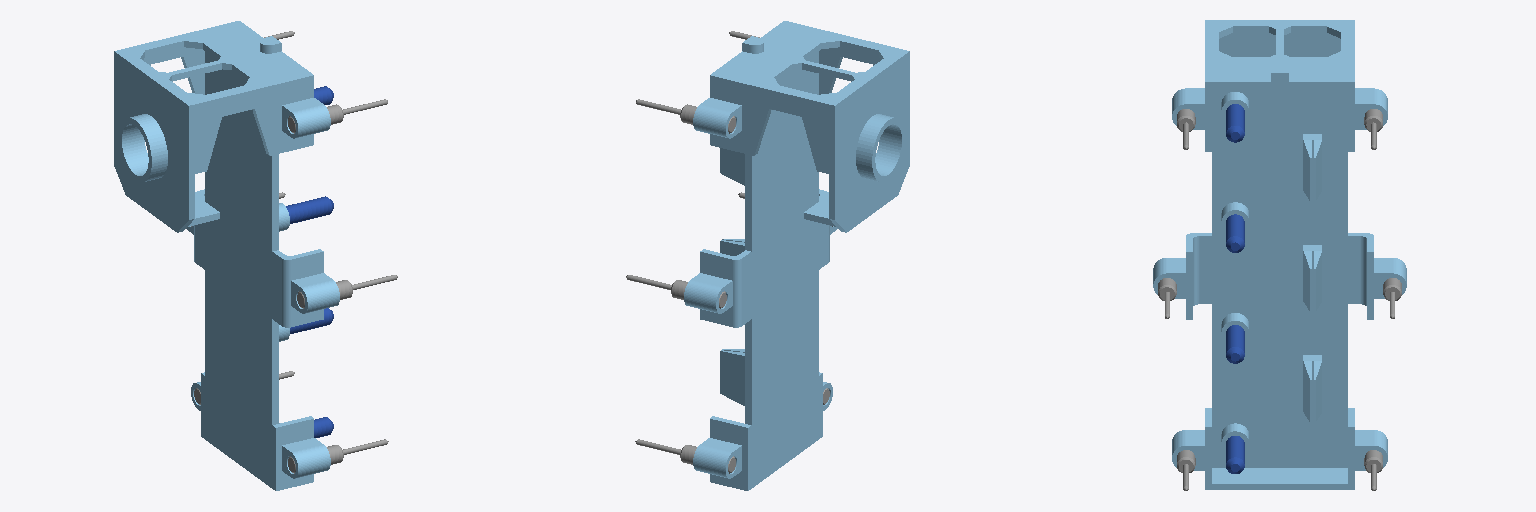
URDF robot description (mock_end_effector):
<!--URDF generated by ONSHAPE BY PTC INC, 1.222-->
<robot name="mock_end_effector">
    <link name="end_effector_base">
        <inertial>
            <mass value="1.53208" />
            <origin xyz="0.118979 0.00187954 -0.118072" rpy="0 -0 0" />
            <inertia ixx="0.0418325" ixy="-0.000116094" ixz="0.00444694" iyy="0.0397799" iyz="0.000120736" izz="0.00878388" />
        </inertial>
        <visual>
            <origin xyz="0.02 0 -1.74512e-18" rpy="0 -0 0" />
            <geometry>
                <mesh filename="package://mock_end_effector/meshes/end_effector_base.stl" scale="1 1 1" />
            </geometry>
            <material name="0.615686_0.811765_0.929412_0.000000_0.000000">
                <color rgba="0.615686 0.811765 0.929412 1" />
            </material>
        </visual>
    </link>
    <link name="end_effector_nozzle">
        <inertial>
            <mass value="0.0257511" />
            <origin xyz="-3.71835e-19 -1.24009e-35 0.0389773" rpy="0 -0 0" />
            <inertia ixx="1.37015e-05" ixy="0" ixz="0" iyy="1.37015e-05" iyz="0" izz="1.27138e-06" />
        </inertial>
        <visual>
            <origin xyz="0 0 0" rpy="0 -0 0" />
            <geometry>
                <mesh filename="package://mock_end_effector/meshes/end_effector_nozzle.stl" scale="1 1 1" />
            </geometry>
            <material name="0.231373_0.380392_0.705882_0.000000_0.000000">
                <color rgba="0.231373 0.380392 0.705882 1" />
            </material>
        </visual>
    </link>
    <link name="end_effector_nozzle_1">
        <inertial>
            <mass value="0.0257511" />
            <origin xyz="9.7626e-19 8.42225e-35 0.0389773" rpy="0 -0 0" />
            <inertia ixx="1.37015e-05" ixy="0" ixz="0" iyy="1.37015e-05" iyz="0" izz="1.27138e-06" />
        </inertial>
        <visual>
            <origin xyz="1.34809e-18 9.66234e-35 -1.73472e-18" rpy="0 -0 0" />
            <geometry>
                <mesh filename="package://mock_end_effector/meshes/end_effector_nozzle.stl" scale="1 1 1" />
            </geometry>
            <material name="0.231373_0.380392_0.705882_0.000000_0.000000">
                <color rgba="0.231373 0.380392 0.705882 1" />
            </material>
        </visual>
    </link>
    <link name="end_effector_nozzle_2">
        <inertial>
            <mass value="0.0257511" />
            <origin xyz="-3.71835e-19 -1.24009e-35 0.0389773" rpy="0 -0 0" />
            <inertia ixx="1.37015e-05" ixy="0" ixz="0" iyy="1.37015e-05" iyz="0" izz="1.27138e-06" />
        </inertial>
        <visual>
            <origin xyz="0 0 0" rpy="0 -0 0" />
            <geometry>
                <mesh filename="package://mock_end_effector/meshes/end_effector_nozzle.stl" scale="1 1 1" />
            </geometry>
            <material name="0.231373_0.380392_0.705882_0.000000_0.000000">
                <color rgba="0.231373 0.380392 0.705882 1" />
            </material>
        </visual>
    </link>
    <link name="end_effector_nozzle_3">
        <inertial>
            <mass value="0.0257511" />
            <origin xyz="-3.71835e-19 -1.24009e-35 0.0389773" rpy="0 -0 0" />
            <inertia ixx="1.37015e-05" ixy="0" ixz="0" iyy="1.37015e-05" iyz="0" izz="1.27138e-06" />
        </inertial>
        <visual>
            <origin xyz="0 0 0" rpy="0 -0 0" />
            <geometry>
                <mesh filename="package://mock_end_effector/meshes/end_effector_nozzle.stl" scale="1 1 1" />
            </geometry>
            <material name="0.231373_0.380392_0.705882_0.000000_0.000000">
                <color rgba="0.231373 0.380392 0.705882 1" />
            </material>
        </visual>
    </link>
    <link name="end_effector_sensor">
        <inertial>
            <mass value="0.0213081" />
            <origin xyz="-5.61313e-20 -1.15097e-35 0.0347772" rpy="0 -0 0" />
            <inertia ixx="1.22295e-05" ixy="0" ixz="0" iyy="1.22295e-05" iyz="0" izz="9.77537e-07" />
        </inertial>
        <visual>
            <origin xyz="0 0 0" rpy="0 -0 0" />
            <geometry>
                <mesh filename="package://mock_end_effector/meshes/end_effector_sensor.stl" scale="1 1 1" />
            </geometry>
            <material name="0.647059_0.647059_0.647059_0.000000_0.000000">
                <color rgba="0.647059 0.647059 0.647059 1" />
            </material>
        </visual>
    </link>
    <link name="end_effector_sensor_1">
        <inertial>
            <mass value="0.0213081" />
            <origin xyz="-5.61313e-20 -1.15097e-35 0.0347772" rpy="0 -0 0" />
            <inertia ixx="1.22295e-05" ixy="0" ixz="0" iyy="1.22295e-05" iyz="0" izz="9.77537e-07" />
        </inertial>
        <visual>
            <origin xyz="0 0 0" rpy="0 -0 0" />
            <geometry>
                <mesh filename="package://mock_end_effector/meshes/end_effector_sensor.stl" scale="1 1 1" />
            </geometry>
            <material name="0.647059_0.647059_0.647059_0.000000_0.000000">
                <color rgba="0.647059 0.647059 0.647059 1" />
            </material>
        </visual>
    </link>
    <link name="end_effector_sensor_2">
        <inertial>
            <mass value="0.0213081" />
            <origin xyz="-1.10933e-18 6.5789e-35 0.0347772" rpy="0 -0 0" />
            <inertia ixx="1.22295e-05" ixy="0" ixz="0" iyy="1.22295e-05" iyz="0" izz="9.77537e-07" />
        </inertial>
        <visual>
            <origin xyz="-1.0532e-18 7.72987e-35 0" rpy="0 -0 0" />
            <geometry>
                <mesh filename="package://mock_end_effector/meshes/end_effector_sensor.stl" scale="1 1 1" />
            </geometry>
            <material name="0.647059_0.647059_0.647059_0.000000_0.000000">
                <color rgba="0.647059 0.647059 0.647059 1" />
            </material>
        </visual>
    </link>
    <link name="end_effector_sensor_3">
        <inertial>
            <mass value="0.0213081" />
            <origin xyz="-5.61313e-20 -1.15097e-35 0.0347772" rpy="0 -0 0" />
            <inertia ixx="1.22295e-05" ixy="0" ixz="0" iyy="1.22295e-05" iyz="0" izz="9.77537e-07" />
        </inertial>
        <visual>
            <origin xyz="0 0 0" rpy="0 -0 0" />
            <geometry>
                <mesh filename="package://mock_end_effector/meshes/end_effector_sensor.stl" scale="1 1 1" />
            </geometry>
            <material name="0.647059_0.647059_0.647059_0.000000_0.000000">
                <color rgba="0.647059 0.647059 0.647059 1" />
            </material>
        </visual>
    </link>
    <link name="end_effector_sensor_4">
        <inertial>
            <mass value="0.0213081" />
            <origin xyz="-5.61313e-20 -1.15097e-35 0.0347772" rpy="0 -0 0" />
            <inertia ixx="1.22295e-05" ixy="0" ixz="0" iyy="1.22295e-05" iyz="0" izz="9.77537e-07" />
        </inertial>
        <visual>
            <origin xyz="0 0 0" rpy="0 -0 0" />
            <geometry>
                <mesh filename="package://mock_end_effector/meshes/end_effector_sensor.stl" scale="1 1 1" />
            </geometry>
            <material name="0.647059_0.647059_0.647059_0.000000_0.000000">
                <color rgba="0.647059 0.647059 0.647059 1" />
            </material>
        </visual>
    </link>
    <link name="end_effector_sensor_5">
        <inertial>
            <mass value="0.0213081" />
            <origin xyz="-5.61313e-20 -1.15097e-35 0.0347772" rpy="0 -0 0" />
            <inertia ixx="1.22295e-05" ixy="0" ixz="0" iyy="1.22295e-05" iyz="0" izz="9.77537e-07" />
        </inertial>
        <visual>
            <origin xyz="0 0 0" rpy="0 -0 0" />
            <geometry>
                <mesh filename="package://mock_end_effector/meshes/end_effector_sensor.stl" scale="1 1 1" />
            </geometry>
            <material name="0.647059_0.647059_0.647059_0.000000_0.000000">
                <color rgba="0.647059 0.647059 0.647059 1" />
            </material>
        </visual>
    </link>
    <link name="root" />
    <joint name="eef_nozzle_j1" type="fixed">
        <origin xyz="0.135 -0.0475 0.035" rpy="0 1.5708 -0" />
        <axis xyz="-0 -0 -1" />
        <parent link="end_effector_base" />
        <child link="end_effector_nozzle_1" />
    </joint>
    <joint name="eef_nozzle_j2" type="fixed">
        <origin xyz="0.135 -0.0475 -0.095" rpy="0 1.5708 -0" />
        <axis xyz="-0 -0 -1" />
        <parent link="end_effector_base" />
        <child link="end_effector_nozzle_3" />
    </joint>
    <joint name="eef_nozzle_j3" type="fixed">
        <origin xyz="0.135 -0.0475 -0.225" rpy="0 1.5708 -0" />
        <axis xyz="-0 -0 -1" />
        <parent link="end_effector_base" />
        <child link="end_effector_nozzle" />
    </joint>
    <joint name="eef_nozzle_j4" type="fixed">
        <origin xyz="0.135 -0.0475 -0.355" rpy="0 1.5708 -0" />
        <axis xyz="-0 -0 -1" />
        <parent link="end_effector_base" />
        <child link="end_effector_nozzle_2" />
    </joint>
    <joint name="eef_origin_joint" type="fixed">
        <origin xyz="1.73472e-17 0 1.74512e-18" rpy="0 -0 0" />
        <axis xyz="0 0 1" />
        <parent link="root" />
        <child link="end_effector_base" />
    </joint>
    <joint name="eef_sensor_j1" type="fixed">
        <origin xyz="0.135 -0.1 0.03875" rpy="0 1.5708 -0" />
        <axis xyz="-0 -0 1" />
        <parent link="end_effector_base" />
        <child link="end_effector_sensor_4" />
    </joint>
    <joint name="eef_sensor_j2" type="fixed">
        <origin xyz="0.135 0.1 0.03875" rpy="0 1.5708 -0" />
        <axis xyz="-0 -0 1" />
        <parent link="end_effector_base" />
        <child link="end_effector_sensor" />
    </joint>
    <joint name="eef_sensor_j3" type="fixed">
        <origin xyz="0.135 -0.12 -0.16" rpy="0 1.5708 -0" />
        <axis xyz="-0 -0 1" />
        <parent link="end_effector_base" />
        <child link="end_effector_sensor_1" />
    </joint>
    <joint name="eef_sensor_j4" type="fixed">
        <origin xyz="0.135 0.12 -0.16" rpy="0 1.5708 -0" />
        <axis xyz="-0 -0 1" />
        <parent link="end_effector_base" />
        <child link="end_effector_sensor_3" />
    </joint>
    <joint name="eef_sensor_j5" type="fixed">
        <origin xyz="0.135 -0.1 -0.3625" rpy="0 1.5708 -0" />
        <axis xyz="-0 -0 1" />
        <parent link="end_effector_base" />
        <child link="end_effector_sensor_5" />
    </joint>
    <joint name="eef_sensor_j6" type="fixed">
        <origin xyz="0.135 0.1 -0.3625" rpy="0 1.5708 -0" />
        <axis xyz="-0 -0 1" />
        <parent link="end_effector_base" />
        <child link="end_effector_sensor_2" />
    </joint>
</robot>

--- What the picture shows (computed from the rendered views, not written in the file) ---
Views: 3 orthographic renders of the robot side by side, from view 1: azimuth 30°, elevation 25°; view 2: azimuth 150°, elevation 25°; view 3: azimuth 270°, elevation 25°.
Model mock_end_effector with 12 links and 11 joints (11 fixed), rooted at root, posed every joint at zero.
Visible links, largest first — view 1: end_effector_base, end_effector_nozzle_3, end_effector_sensor_1, end_effector_sensor_4, end_effector_sensor_5; view 2: end_effector_base, end_effector_sensor_3, end_effector_sensor, end_effector_sensor_2; view 3: end_effector_base, end_effector_nozzle, end_effector_nozzle_1, end_effector_nozzle_3, end_effector_nozzle_2.
Boxes of the visible links, <box> form: end_effector_base: <box>114,21,339,490</box>; end_effector_nozzle_3: <box>286,196,333,223</box>; end_effector_sensor_1: <box>297,275,397,308</box>; end_effector_sensor_4: <box>288,99,387,133</box>; end_effector_sensor_5: <box>288,439,388,473</box>; end_effector_base: <box>684,21,909,490</box>; end_effector_sensor_3: <box>626,275,726,308</box>; end_effector_sensor: <box>636,99,735,133</box>; end_effector_sensor_2: <box>635,439,735,473</box>; end_effector_base: <box>1153,20,1406,489</box>; end_effector_nozzle: <box>1226,325,1244,363</box>; end_effector_nozzle_1: <box>1226,104,1244,142</box>; end_effector_nozzle_3: <box>1226,214,1244,252</box>; end_effector_nozzle_2: <box>1226,436,1244,473</box>.
Bounding box of the posed robot: 0.255 × 0.27 × 0.49 m (x, y, z).
Meshes: 3 distinct files referenced, 11 mesh visuals loaded (3 binary STL).
